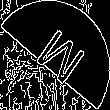M_SW: (25, 21, 85, 89)
